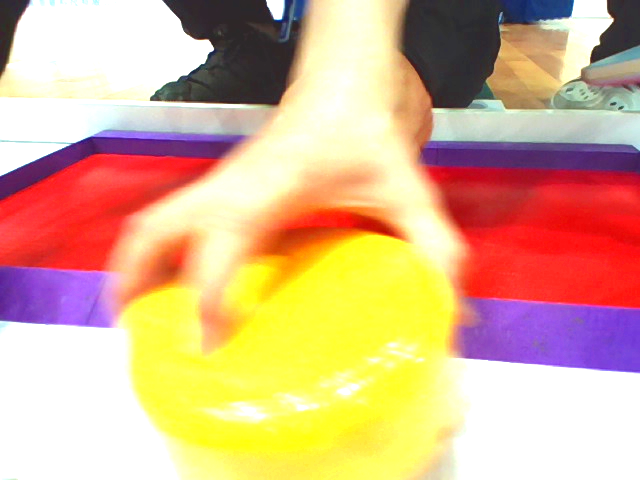kuang: (2, 123, 640, 370)
yellow: (121, 210, 461, 471)
